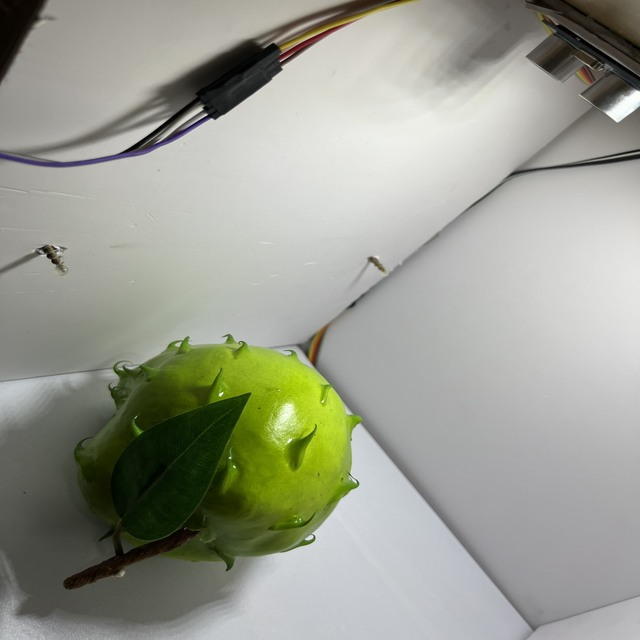Man cau: (65, 328, 369, 570)
